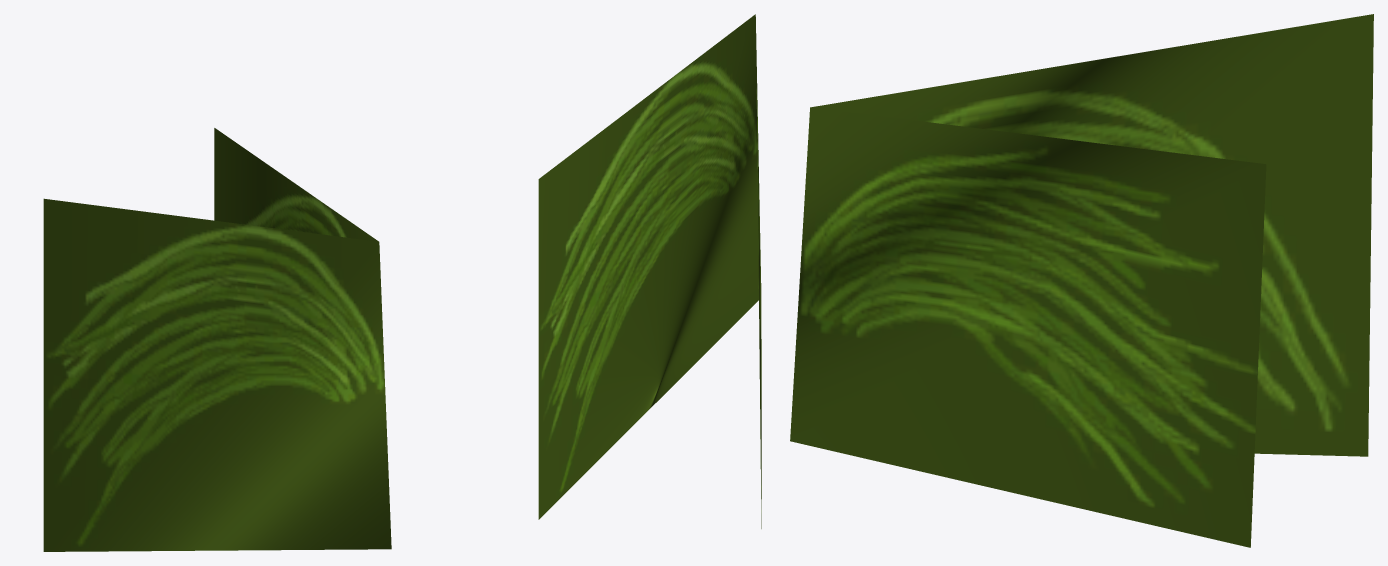
File: Grass_hanging.glb
3 views of the same model, side by side, from view 1: azimuth 30°, elevation 25°; view 2: azimuth 150°, elevation 25°; view 3: azimuth 270°, elevation 25° (orthographic). The views are drawn at different scales.
Parts seen in each view (by area): view 1: Grass_hanging; view 2: Grass_hanging; view 3: Grass_hanging.
Part boxes in pixels (bbox=[...]): Grass_hanging: bbox=[43, 128, 391, 551]; Grass_hanging: bbox=[538, 14, 761, 528]; Grass_hanging: bbox=[790, 14, 1373, 547].
Size of the model in its own units: 0.4865 by 0.6487 by 0.7015.
1 material, 1 textured.
